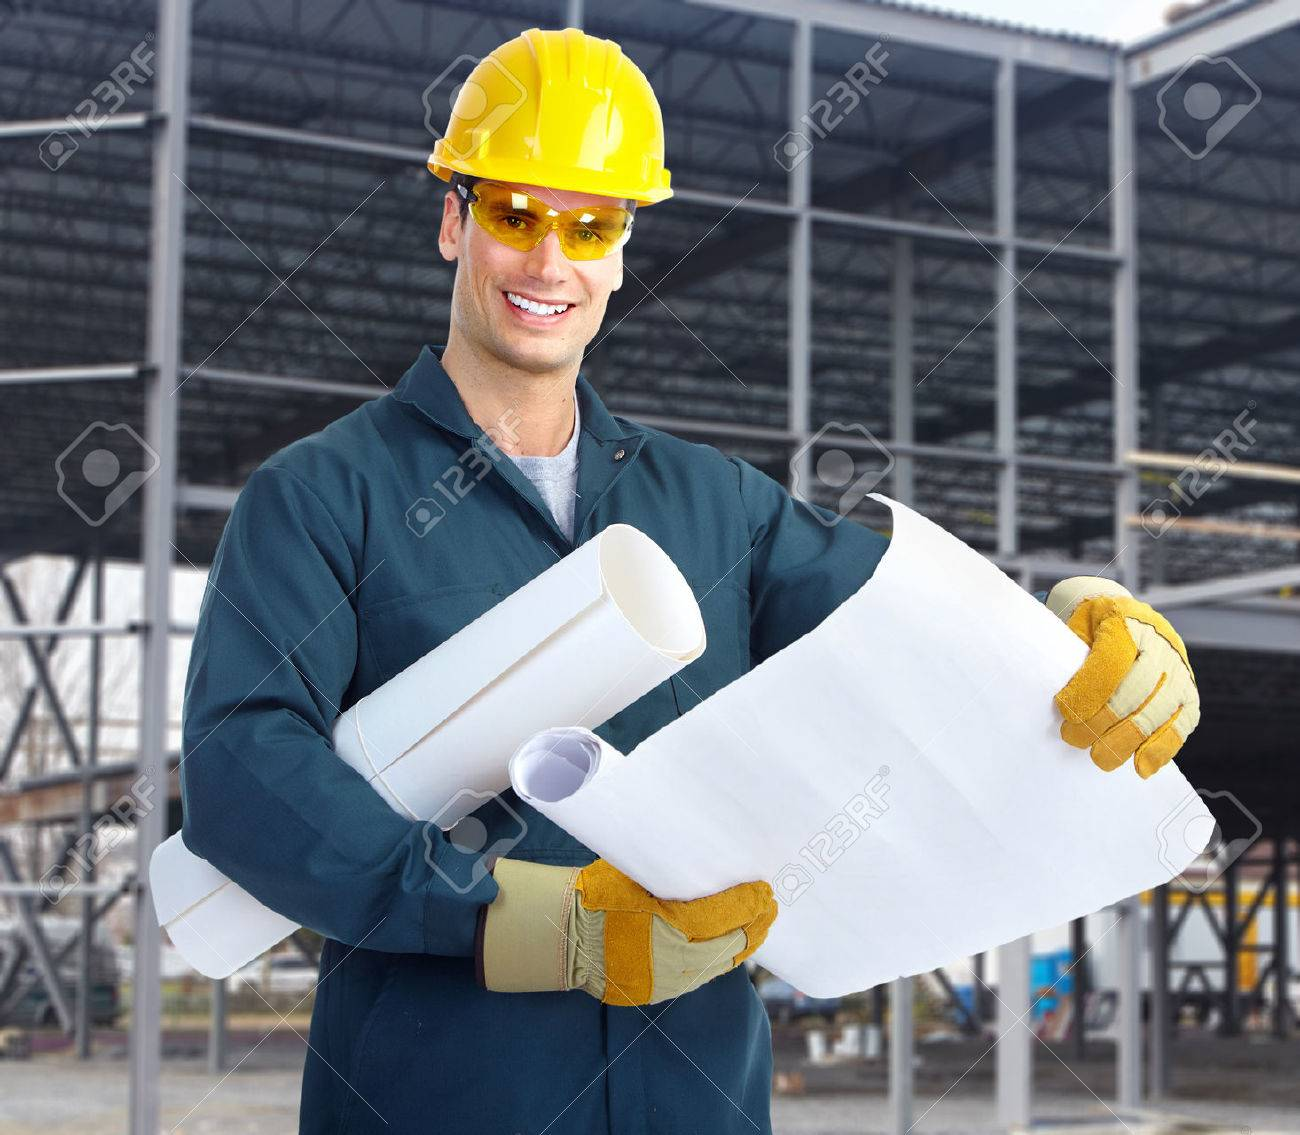Person_wearing_helmet: (421, 16, 664, 245)
